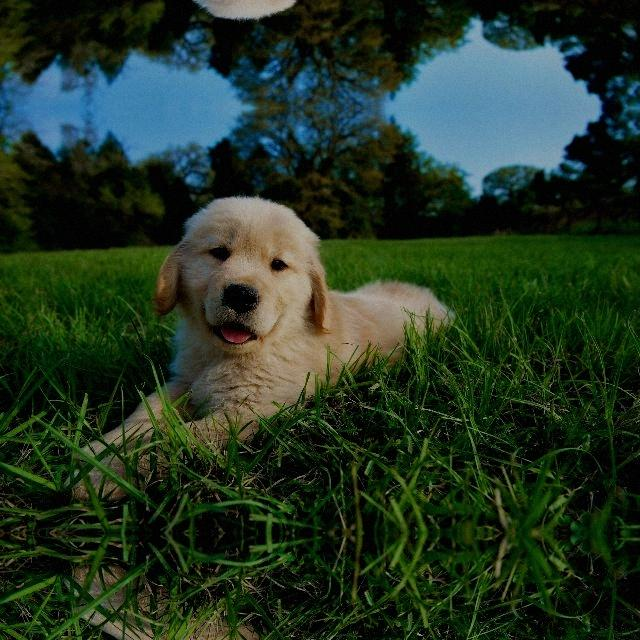dog: (54, 179, 466, 496), (54, 568, 466, 640), (54, 0, 466, 34)
